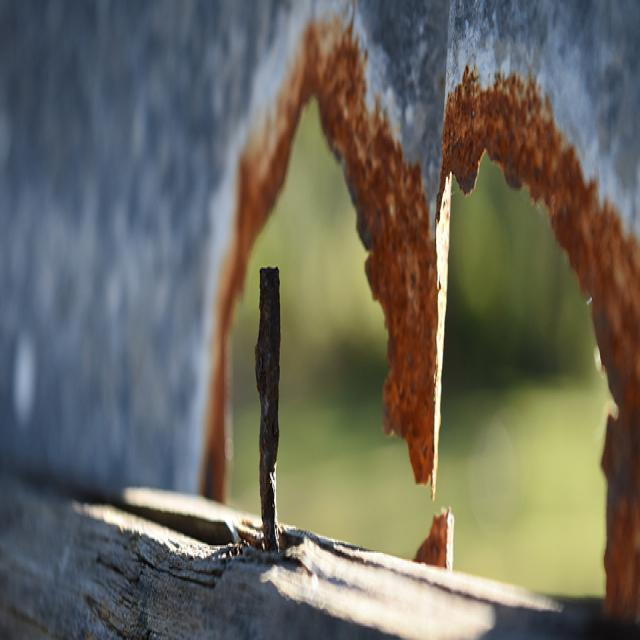Corrosion: (445, 68, 640, 622), (232, 20, 428, 466), (199, 219, 250, 502), (394, 258, 439, 484), (414, 508, 455, 572)
